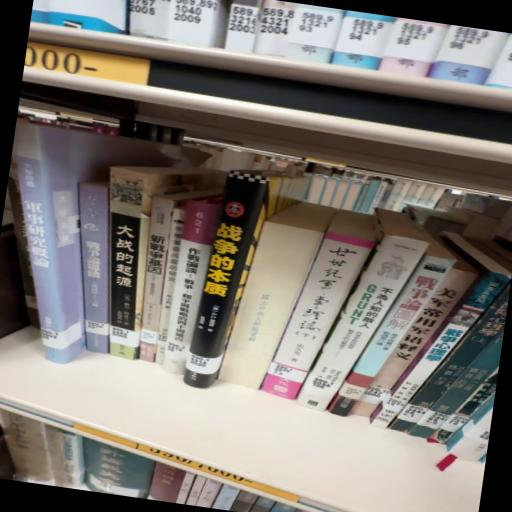backward: (218, 202, 337, 390)
book: (214, 196, 338, 403), (186, 174, 272, 396), (56, 177, 134, 356), (162, 196, 222, 360), (88, 210, 154, 358), (132, 194, 184, 366)
